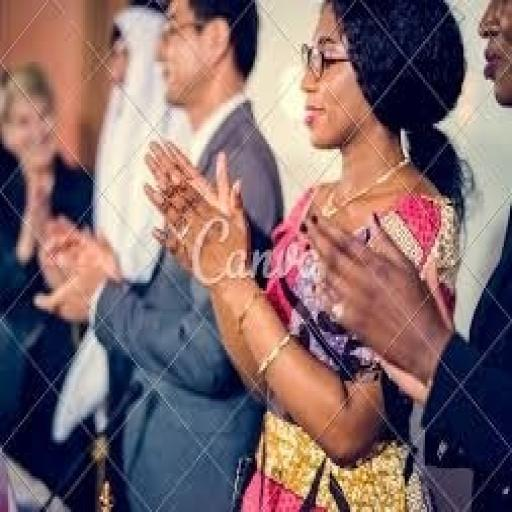clapping: (139, 0, 473, 509), (32, 0, 287, 509), (307, 0, 510, 509), (0, 59, 97, 510)
